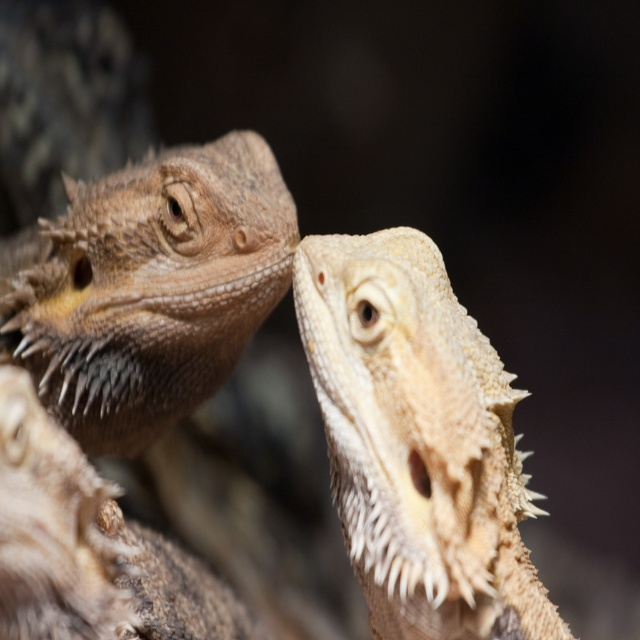Lizard: (288, 207, 562, 640), (0, 116, 289, 463)
